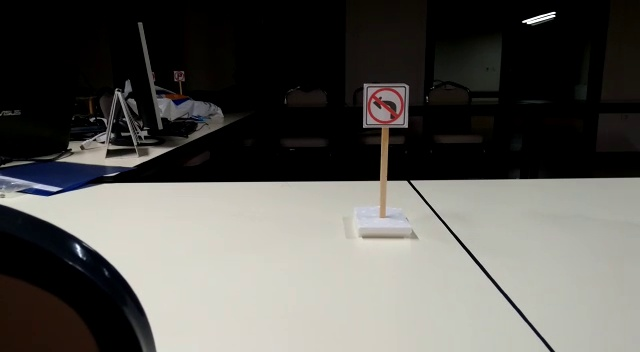sola_donulmez: (367, 88, 406, 125)
